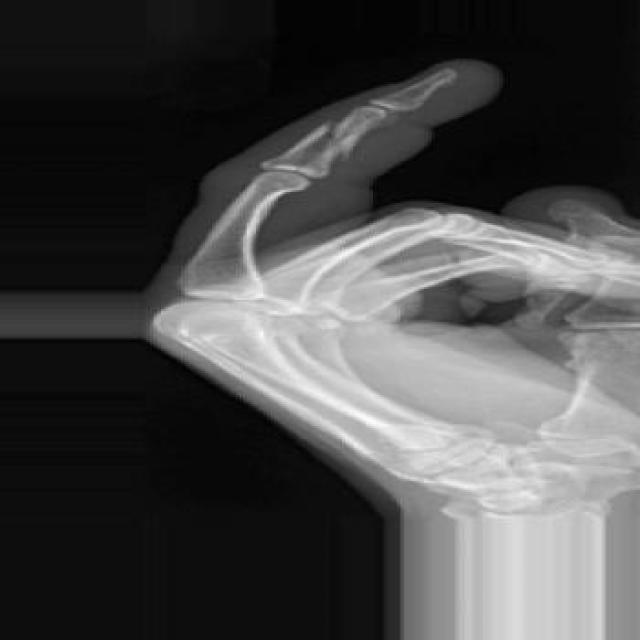Fracture: (296, 110, 368, 167)
